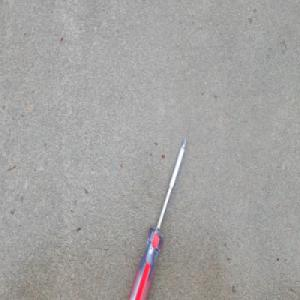Screwdriver: (124, 133, 188, 300)
